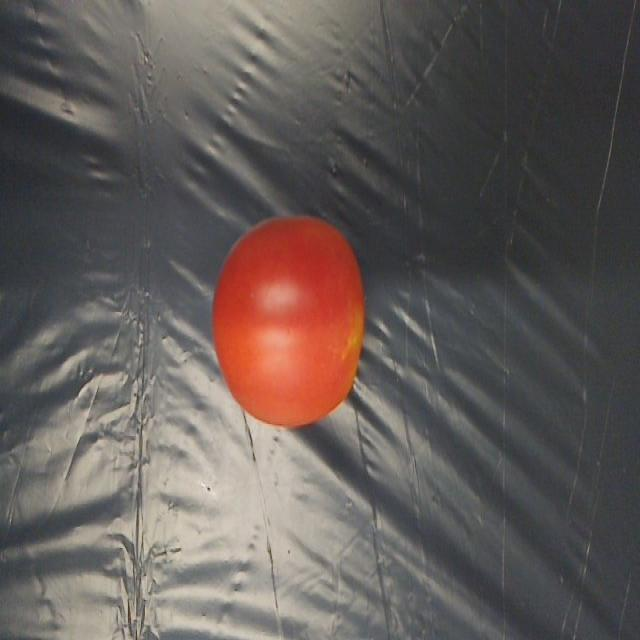kirmizi: (186, 183, 394, 457)
